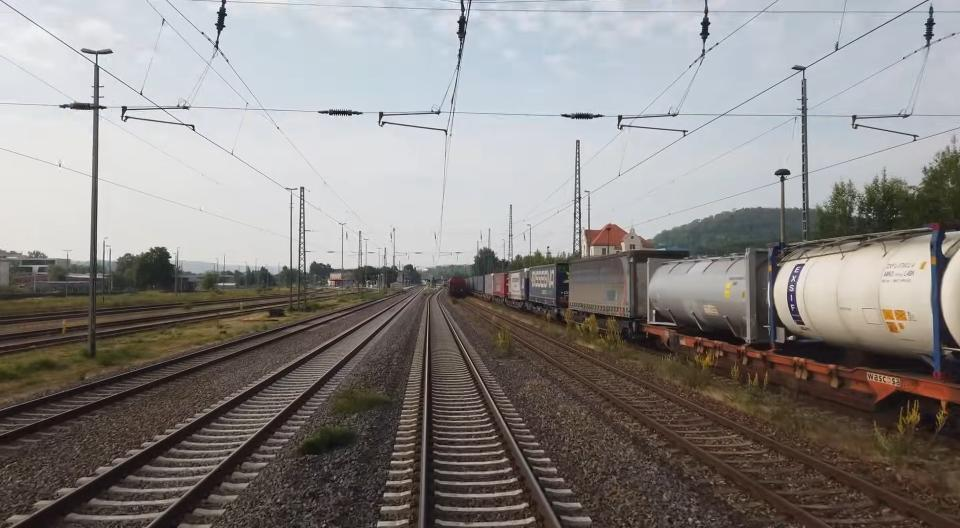Plant: (298, 427, 356, 455), (332, 388, 390, 414), (495, 326, 512, 352)
